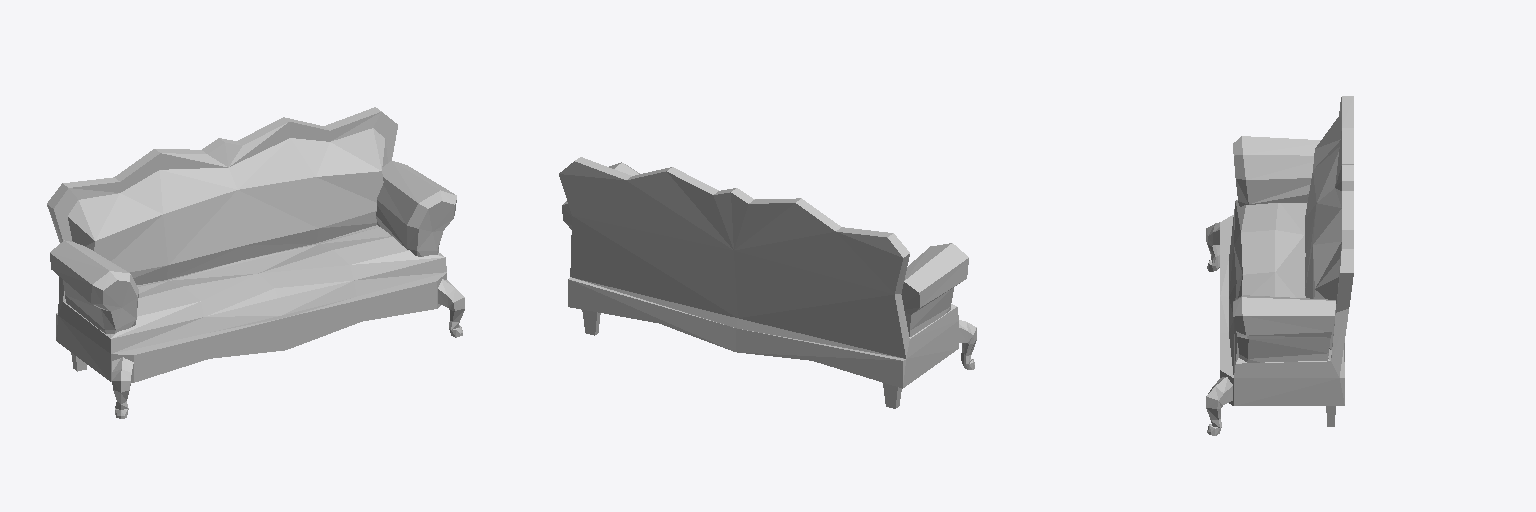
Rendered from sofa_1.obj.
The picture shows the model from 3 angles: view 1: azimuth 30°, elevation 25°; view 2: azimuth 150°, elevation 25°; view 3: azimuth 270°, elevation 25°; orthographic projection.
Visible parts, largest first — view 1: ??002; view 2: ??002; view 3: ??002.
Boxes of the visible parts, box(x1,y1,x2,y2) form: ??002: box(47, 107, 464, 418); ??002: box(559, 157, 976, 408); ??002: box(1206, 96, 1353, 435).
Bounding box in the file's own units: 91.78 × 46.11 × 32.24.